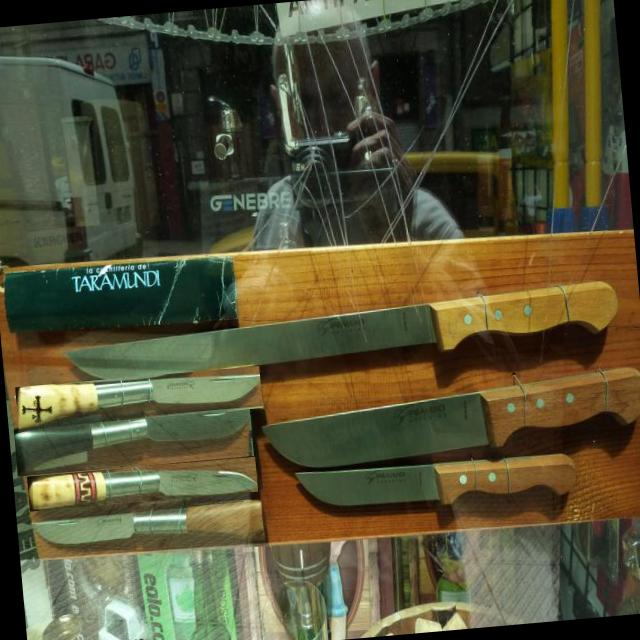Knife: (66, 280, 616, 380), (263, 367, 640, 468), (14, 407, 250, 476), (296, 453, 576, 506), (16, 375, 260, 429), (33, 499, 264, 545), (29, 471, 257, 511)
